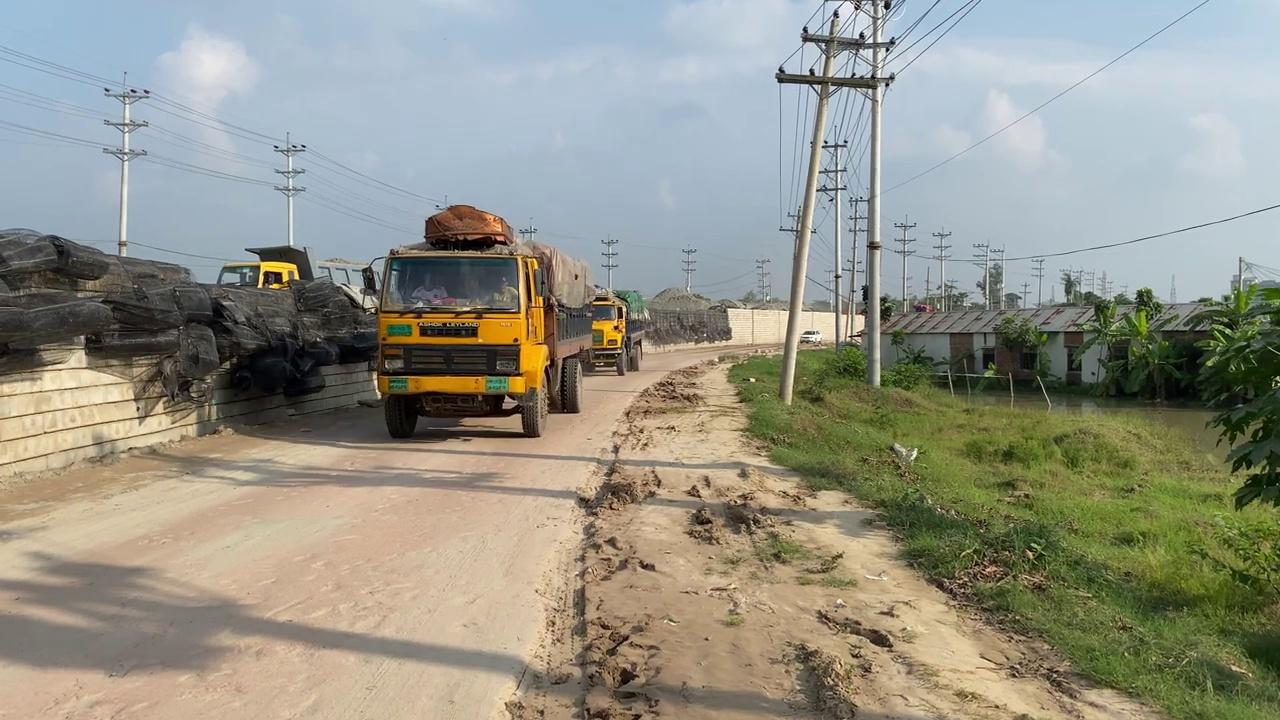Car: (799, 329, 821, 345)
Garbage: (0, 231, 378, 408)
Pole: (863, 0, 892, 388)
Traffic-sign: (1193, 278, 1279, 511)
Tree: (364, 203, 596, 439), (580, 284, 650, 376), (215, 244, 315, 290)
